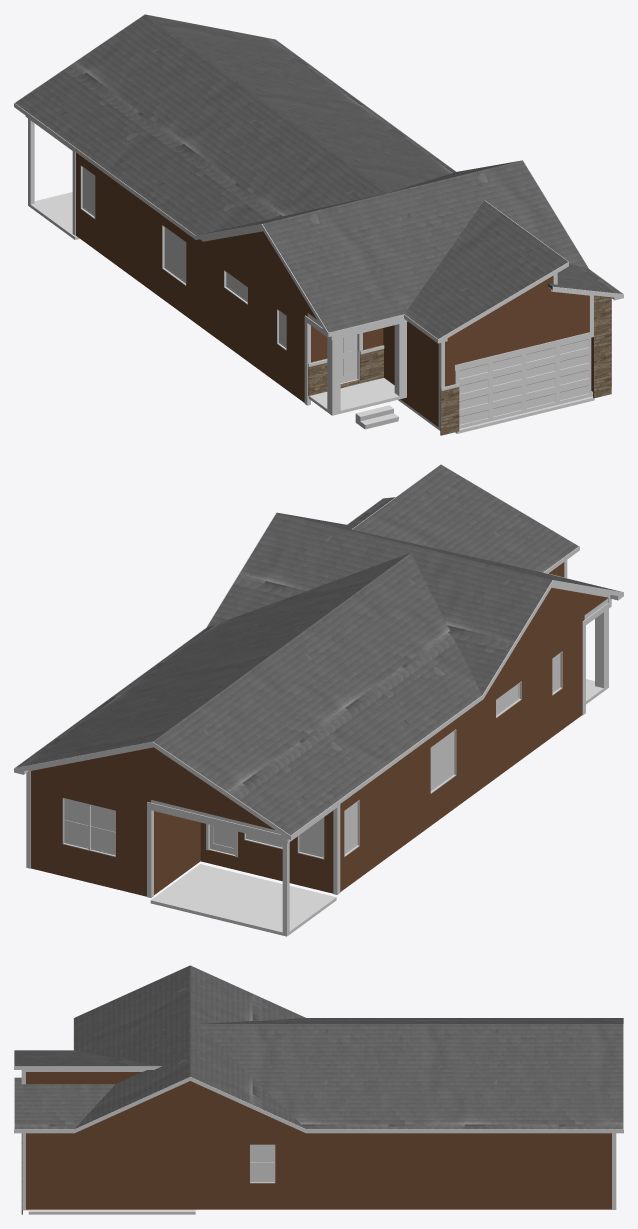
The model's file is 129-1360-dm-modern.glb.
3 renders of one model, top to bottom at view 1: azimuth 30°, elevation 25°; view 2: azimuth 150°, elevation 25°; view 3: azimuth 270°, elevation 25°, orthographic. The views are drawn at different scales.
Visible parts, largest first — view 1: Basic Roof Wood Rafter 4" - Asphalt Shingle - Insulated_1e75, Basic Roof Wood Rafter 4" - Asphalt Shingle - Insulated_1d6b, Basic Roof Wood Rafter 4" - Asphalt Shingle - Insulated_ec93, Basic Wall BSB Exterior - Stud_3.5" - Sheathing_0.5" - _a010, Traditional - BSB Exterior - Overhead Garage Door - Clo_92db, Basic Wall BSB Exterior - Stud_3.5" - Sheathing_0.5" - _44ac, Basic Wall BSB Exterior - Stud_3.5" - Sheathing_0.5" - _a289, Fascia Fascia-Flat 1x6 w/12" Soffit Bd [4453556], Basic Wall BSB Exterior - Stud_3.5" - Sheathing_0.5" - _adc4, Basic Wall BSB Exterior - Stud_3.5" - Sheathing_0.5" - _ab2a, Basic Wall BSB Exterior - Stud_3.5" - Sheathing_0.5" - _4962, Basic Wall BSB Exterior - Stone Veneer_2" [4449930] (+17 smaller); view 2: Basic Roof Wood Rafter 4" - Asphalt Shingle - Insulated_1e75, Basic Roof Wood Rafter 4" - Asphalt Shingle - Insulated_1d6b, Basic Roof Wood Rafter 4" - Asphalt Shingle - Insulated_ec93, Basic Wall BSB Exterior - Stud_3.5" - Sheathing_0.5" - _a010, Basic Wall BSB Exterior - Stud_3.5" - Sheathing_0.5" - _e5d4, Floor BSB Concrete Slab - 4" - Slope Option [4260206], Basic Wall BSB Exterior - Stud_3.5" - Sheathing_0.5" - _2ec2, Basic Wall BSB Exterior - Stud_3.5" - Sheathing_0.5" - _44ac, Basic Wall BSB Exterior - Stud_3.5" - Sheathing_0.5" - _a39f, Fascia Fascia-Flat 1x6 w/12" Soffit Bd [4453556], Basic Wall BSB Exterior - Stud_3.5" - Sheathing_0.5" - _ab2a, Basic Wall BSB Exterior - Stud_3.5" - Sheathing_0.5" - _4962 (+11 smaller); view 3: Basic Roof Wood Rafter 4" - Asphalt Shingle - Insulated_1e75, Basic Wall BSB Exterior - Stud_3.5" - Sheathing_0.5" - _4cd1, Basic Roof Wood Rafter 4" - Asphalt Shingle - Insulated_1d6b, Basic Wall BSB Exterior - Stud_3.5" - Sheathing_0.5" - _eddb, Basic Wall BSB Exterior - Stud_3.5" - Sheathing_0.5" - _c46c, Basic Wall BSB Exterior - Stud_3.5" - Sheathing_0.5" - _e2c5, Fascia Fascia-Flat 1x6 w/12" Soffit Bd [4453556], Basic Roof Wood Rafter 4" - Asphalt Shingle - Insulated_a884, Basic Roof Wood Rafter 4" - Asphalt Shingle - Insulated_ec93, Basic Wall BSB Exterior - Stud_3.5" - Sheathing_0.5" - _9ead, BSB Single Hung 3050 SH w/ Sill [4265274], Floor BSB Concrete Slab - 4" - Slope Option [4274134] (+1 smaller).
Boxes of the visible parts, box(x1,y1,x2,y2) form: Basic Roof Wood Rafter 4" - Asphalt Shingle - Insulated_1e75: box(15, 14, 455, 235); Basic Roof Wood Rafter 4" - Asphalt Shingle - Insulated_1d6b: box(197, 160, 588, 332); Basic Roof Wood Rafter 4" - Asphalt Shingle - Insulated_ec93: box(404, 200, 567, 338); Basic Wall BSB Exterior - Stud_3.5" - Sheathing_0.5" - _a010: box(76, 152, 204, 329); Traditional - BSB Exterior - Overhead Garage Door - Clo_92db: box(459, 337, 592, 428); Basic Wall BSB Exterior - Stud_3.5" - Sheathing_0.5" - _44ac: box(205, 241, 265, 374); Basic Wall BSB Exterior - Stud_3.5" - Sheathing_0.5" - _a289: box(445, 301, 593, 391); Fascia Fascia-Flat 1x6 w/12" Soffit Bd [4453556]: box(14, 14, 623, 342); Basic Wall BSB Exterior - Stud_3.5" - Sheathing_0.5" - _adc4: box(383, 321, 438, 426); Basic Wall BSB Exterior - Stud_3.5" - Sheathing_0.5" - _ab2a: box(266, 282, 302, 400); Basic Wall BSB Exterior - Stud_3.5" - Sheathing_0.5" - _4962: box(209, 231, 316, 319); Basic Wall BSB Exterior - Stone Veneer_2" [4449930]: box(593, 295, 611, 398); Basic Roof Wood Rafter 4" - Asphalt Shingle - Insulated_1e75: box(15, 553, 481, 835); Basic Roof Wood Rafter 4" - Asphalt Shingle - Insulated_1d6b: box(207, 512, 621, 694); Basic Roof Wood Rafter 4" - Asphalt Shingle - Insulated_ec93: box(352, 464, 578, 572); Basic Wall BSB Exterior - Stud_3.5" - Sheathing_0.5" - _a010: box(340, 705, 475, 891); Basic Wall BSB Exterior - Stud_3.5" - Sheathing_0.5" - _e5d4: box(31, 771, 150, 896); Floor BSB Concrete Slab - 4" - Slope Option [4260206]: box(150, 864, 336, 936); Basic Wall BSB Exterior - Stud_3.5" - Sheathing_0.5" - _2ec2: box(32, 747, 274, 829); Basic Wall BSB Exterior - Stud_3.5" - Sheathing_0.5" - _44ac: box(476, 648, 540, 792); Basic Wall BSB Exterior - Stud_3.5" - Sheathing_0.5" - _a39f: box(200, 810, 333, 893); Fascia Fascia-Flat 1x6 w/12" Soffit Bd [4453556]: box(15, 464, 622, 839); Basic Wall BSB Exterior - Stud_3.5" - Sheathing_0.5" - _ab2a: box(540, 620, 578, 745); Basic Wall BSB Exterior - Stud_3.5" - Sheathing_0.5" - _4962: box(495, 588, 607, 680); Basic Roof Wood Rafter 4" - Asphalt Shingle - Insulated_1e75: box(197, 1018, 623, 1129); Basic Wall BSB Exterior - Stud_3.5" - Sheathing_0.5" - _4cd1: box(197, 1128, 611, 1209); Basic Roof Wood Rafter 4" - Asphalt Shingle - Insulated_1d6b: box(74, 965, 305, 1128); Basic Wall BSB Exterior - Stud_3.5" - Sheathing_0.5" - _eddb: box(95, 1128, 196, 1209); Basic Wall BSB Exterior - Stud_3.5" - Sheathing_0.5" - _c46c: box(26, 1128, 95, 1209); Basic Wall BSB Exterior - Stud_3.5" - Sheathing_0.5" - _e2c5: box(85, 1081, 294, 1128); Fascia Fascia-Flat 1x6 w/12" Soffit Bd [4453556]: box(14, 965, 623, 1133); Basic Roof Wood Rafter 4" - Asphalt Shingle - Insulated_a884: box(14, 1077, 115, 1129); Basic Roof Wood Rafter 4" - Asphalt Shingle - Insulated_ec93: box(14, 1050, 160, 1066); Basic Wall BSB Exterior - Stud_3.5" - Sheathing_0.5" - _9ead: box(26, 1072, 141, 1083); BSB Single Hung 3050 SH w/ Sill [4265274]: box(250, 1144, 275, 1183); Floor BSB Concrete Slab - 4" - Slope Option [4274134]: box(23, 1209, 195, 1214).
Size of the model in its own units: 9.49 by 5.69 by 21.88.
3 materials, 2 textured.
